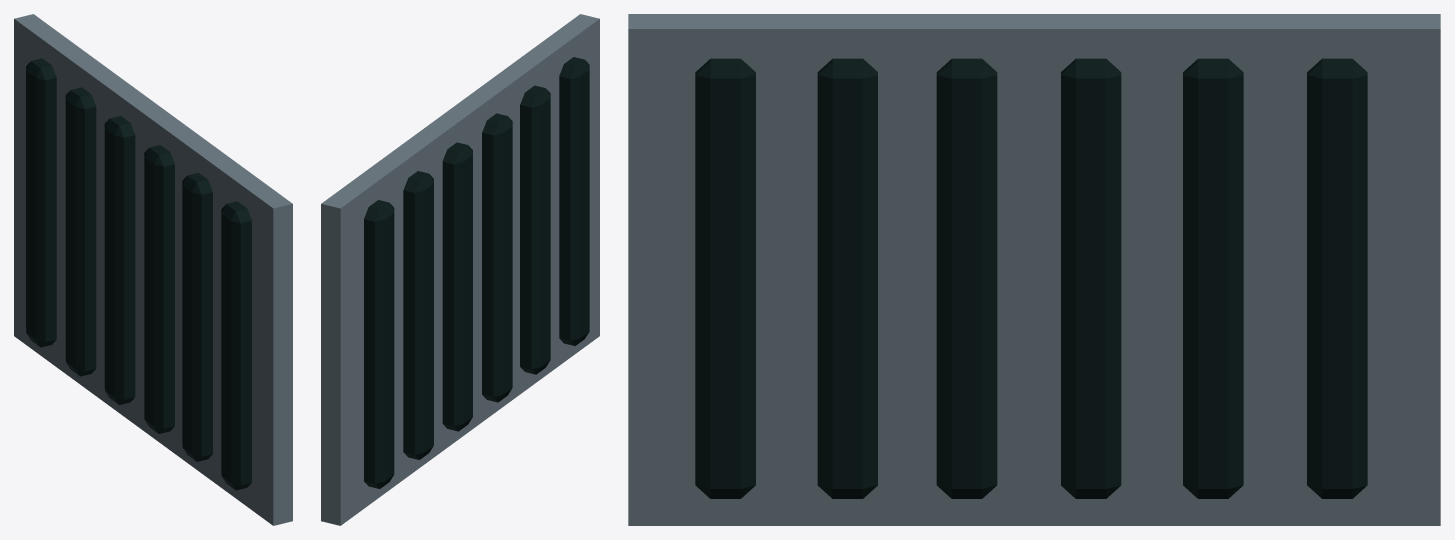
Rendered from plaka 11 emboss.fbx.
3 views of the same model, side by side, from view 1: azimuth 30°, elevation 25°; view 2: azimuth 150°, elevation 25°; view 3: azimuth 270°, elevation 25° (orthographic). The views are drawn at different scales.
Visible parts, largest first — view 1: polySurface1939; view 2: polySurface1939; view 3: polySurface1939.
Part boxes in pixels (x1=…): polySurface1939: x1=14, y1=14, x2=292, y2=525; polySurface1939: x1=321, y1=14, x2=599, y2=525; polySurface1939: x1=628, y1=14, x2=1440, y2=525.
Size of the model in its own units: 20.11 by 139 by 206.
